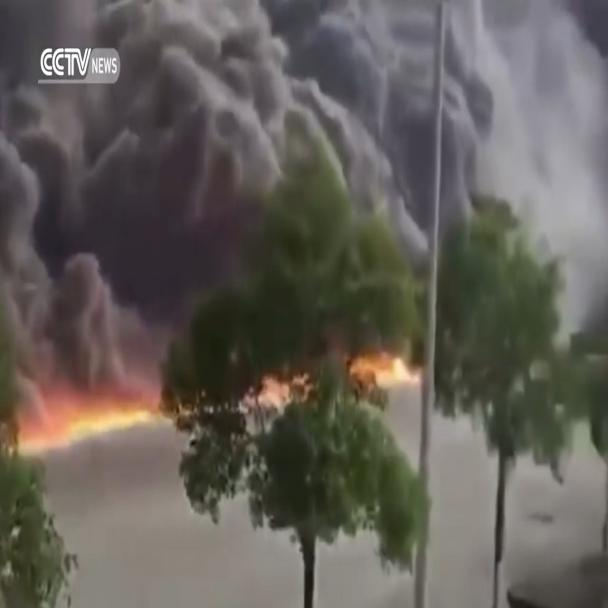Fire: (0, 320, 510, 530)
smoke: (0, 17, 577, 296)
